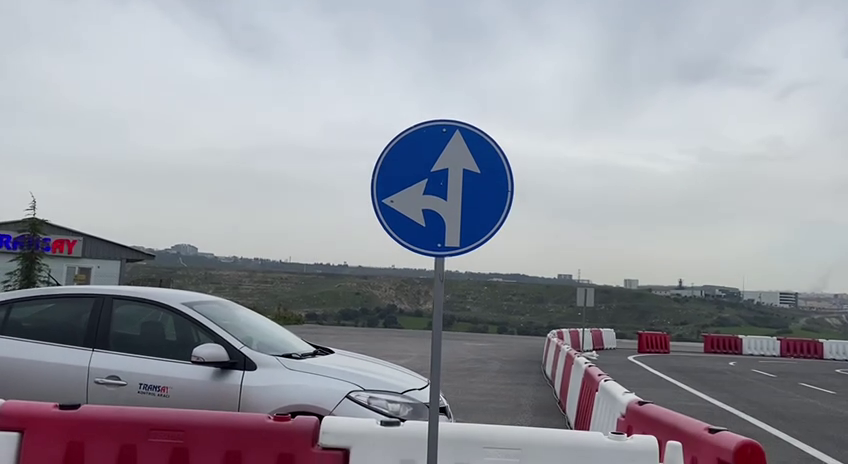forwardAndLeft: (367, 115, 519, 260)
